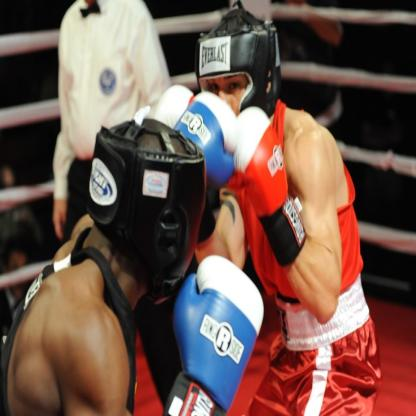Helmet: (82, 123, 206, 303), (192, 22, 282, 118)
